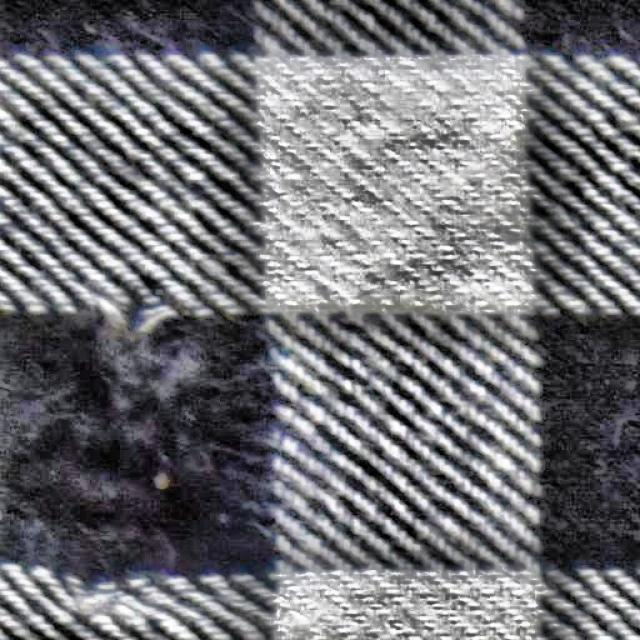selvet: (53, 284, 247, 568)
